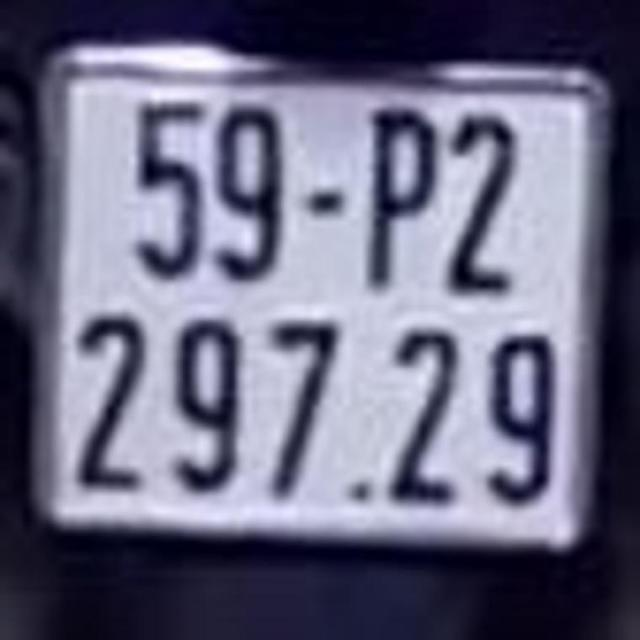2: (381, 304, 465, 510), (444, 90, 525, 300), (69, 307, 149, 493)
5: (126, 86, 207, 281)
7: (261, 299, 344, 504)
9: (480, 312, 564, 509), (211, 82, 290, 285), (168, 299, 245, 496)
P: (360, 89, 440, 294)
